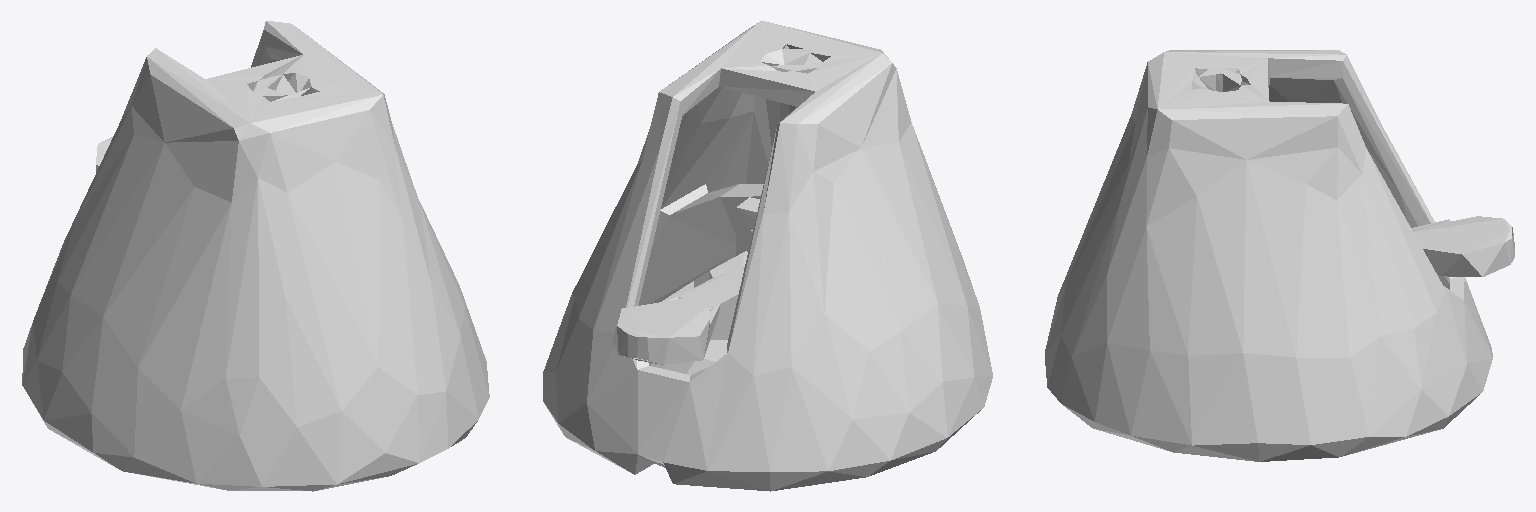
The robot description file, URDF, robot "Poppy_Torso":
<?xml version="1.0" encoding="utf-8"?>
<robot name="Poppy_Torso">
	<link name="base">
		<inertial>
			<origin xyz="-9.74926801495556E-06 0.0245809270022031 -0.0126310576435619" rpy="0 0 0"></origin>
			<mass value="0.304441048219244"></mass>
			<inertia ixx="0.000444379589701896" ixy="1.65486746667917E-08" ixz="-3.86276516415689E-09" iyy="0.00048561348802354" iyz="2.15649474149961E-05" izz="0.000421911604661064"></inertia>
		</inertial>
		<visual>
			<origin xyz="0 0 0" rpy="0 0 0"></origin>
			<geometry>
				<mesh filename="package://Poppy_Torso/meshes/base_visual.STL"></mesh>
			</geometry>
			<material name="">
				<color rgba="0.9 0.9 0.9 1.0"></color>
			</material>
		</visual>
		<collision>
			<origin xyz="0 0 0" rpy="0 0 0"></origin>
			<geometry>
				<mesh filename="package://Poppy_Torso/meshes/base_respondable.STL"></mesh>
			</geometry>
		</collision>
	</link>
	<link name="spine">
		<inertial>
			<origin xyz="-2.40404181622888E-07 0.0288451670610555 -0.0100975116173431" rpy="0 0 0"></origin>
			<mass value="0.0926815111299683"></mass>
			<inertia ixx="3.84763921301561E-05" ixy="-1.20593718688982E-09" ixz="-2.38686853561089E-10" iyy="2.73205150040803E-05" iyz="1.47490193478348E-06" izz="3.26595229928866E-05"></inertia>
		</inertial>
		<visual>
			<origin xyz="0 0 0" rpy="0 0 0"></origin>
			<geometry>
				<mesh filename="package://Poppy_Torso/meshes/spine_visual.STL"></mesh>
			</geometry>
			<material name="">
				<color rgba="0.9 0.9 0.9 1.0"></color>
			</material>
		</visual>
		<collision>
			<origin xyz="0 0 0" rpy="0 0 0"></origin>
			<geometry>
				<mesh filename="package://Poppy_Torso/meshes/spine_respondable.STL"></mesh>
			</geometry>
		</collision>
	</link>
	<link name="bust_motors">
		<inertial>
			<origin xyz="3.50872352602193E-05 0.0105220286991919 -0.0174331454397802" rpy="0 0 0"></origin>
			<mass value="0.158876054417129"></mass>
			<inertia ixx="0.000100953682916" ixy="-3.89105329887544E-07" ixz="9.71750445341545E-08" iyy="8.94288407127088E-05" iyz="-1.31738248300944E-06" izz="4.2622597249744E-05"></inertia>
		</inertial>
		<visual>
			<origin xyz="0 0 0" rpy="0 0 0"></origin>
			<geometry>
				<mesh filename="package://Poppy_Torso/meshes/bust_motors_visual.STL"></mesh>
			</geometry>
			<material name="">
				<color rgba="0.9 0.9 0.9 1.0"></color>
			</material>
		</visual>
		<collision>
			<origin xyz="0 0 0" rpy="0 0 0"></origin>
			<geometry>
				<mesh filename="package://Poppy_Torso/meshes/bust_motors_respondable.stl"></mesh>
			</geometry>
		</collision>
	</link>
	<link name="chest">
		<inertial>
			<origin xyz="2.16502093708977E-06 0.051494834637487 -0.0105461658967885" rpy="0 0 0"></origin>
			<mass value="0.262924546647766"></mass>
			<inertia ixx="0.000154596138060618" ixy="2.37341792243603E-08" ixz="-2.3634491566554E-08" iyy="0.000750952678880381" iyz="1.53507486626421E-06" izz="0.000688551029698055"></inertia>
		</inertial>
		<visual>
			<origin xyz="0 0 0" rpy="0 0 0"></origin>
			<geometry>
				<mesh filename="package://Poppy_Torso/meshes/chest_visual.STL"></mesh>
			</geometry>
			<material name="">
				<color rgba="0.9 0.9 0.9 1.0"></color>
			</material>
		</visual>
		<collision>
			<origin xyz="0 0 0" rpy="0 0 0"></origin>
			<geometry>
				<mesh filename="package://Poppy_Torso/meshes/chest_respondable.STL"></mesh>
			</geometry>
		</collision>
	</link>
	<link name="neck">
		<inertial>
			<origin xyz="-0.00147486363079189 0.00928455262636607 2.89600753380741E-06" rpy="0 0 0"></origin>
			<mass value="0.00588496516988366"></mass>
			<inertia ixx="7.25596636570398E-07" ixy="-9.29944216419528E-08" ixz="2.01438227026043E-10" iyy="2.33535976458608E-06" iyz="1.55383710790991E-11" izz="2.57395421284165E-06"></inertia>
		</inertial>
		<visual>
			<origin xyz="0 0 0" rpy="0 0 0"></origin>
			<geometry>
				<mesh filename="package://Poppy_Torso/meshes/neck_visual.STL"></mesh>
			</geometry>
			<material name="">
				<color rgba="0.9 0.9 0.9 1.0"></color>
			</material>
		</visual>
		<collision>
			<origin xyz="0 0 0" rpy="0 0 0"></origin>
			<geometry>
				<mesh filename="package://Poppy_Torso/meshes/neck_respondable.STL"></mesh>
			</geometry>
		</collision>
	</link>
	<link name="head">
		<inertial>
			<origin xyz="0.000557192931260033 0.0327428210753856 -0.0132526703496143" rpy="0 0 0"></origin>
			<mass value="0.188564677402165"></mass>
			<inertia ixx="0.000353349276053432" ixy="-2.18551305410159E-07" ixz="4.10859195006433E-06" iyy="0.000384594393505883" iyz="-2.16688817868271E-05" izz="0.000396655887789427"></inertia>
		</inertial>
		<visual>
			<origin xyz="0 0 0" rpy="0 0 0"></origin>
			<geometry>
				<mesh filename="package://Poppy_Torso/meshes/head_visual.STL"></mesh>
			</geometry>
			<material name="">
				<color rgba="0.9 0.9 0.9 1.0"></color>
			</material>
		</visual>
		<collision>
			<origin xyz="0 0 0" rpy="0 0 0"></origin>
			<geometry>
				<mesh filename="package://Poppy_Torso/meshes/head_respondable.stl"></mesh>
			</geometry>
		</collision>
	</link>
	<link name="r_shoulder">
		<inertial>
			<origin xyz="-0.0104831289118898 0.00172612373293796 -0.00916606535277945" rpy="0 0 0"></origin>
			<mass value="0.00848189595252892"></mass>
			<inertia ixx="3.40574053037303E-06" ixy="4.48539910128384E-08" ixz="-3.01050409281427E-08" iyy="3.57000945450025E-06" iyz="1.16024799669592E-08" izz="1.85571705062299E-06"></inertia>
		</inertial>
		<visual>
			<origin xyz="0 0 0" rpy="0 0 0"></origin>
			<geometry>
				<mesh filename="package://Poppy_Torso/meshes/r_shoulder_visual.STL"></mesh>
			</geometry>
			<material name="">
				<color rgba="0.9 0.9 0.9 1.0"></color>
			</material>
		</visual>
		<collision>
			<origin xyz="0 0 0" rpy="0 0 0"></origin>
			<geometry>
				<mesh filename="package://Poppy_Torso/meshes/r_shoulder_respondable.STL"></mesh>
			</geometry>
		</collision>
	</link>
	<link name="r_shoulder_motor">
		<inertial>
			<origin xyz="2.24524859149255E-07 -0.0125756770887728 -0.0085982551689308" rpy="0 0 0"></origin>
			<mass value="0.0828144642064673"></mass>
			<inertia ixx="2.76486436455355E-05" ixy="-1.31703554080169E-10" ixz="-6.69095857944708E-10" iyy="1.6442799920461E-05" iyz="7.2340141547735E-07" izz="2.26416495770308E-05"></inertia>
		</inertial>
		<visual>
			<origin xyz="0 0 0" rpy="0 0 0"></origin>
			<geometry>
				<mesh filename="package://Poppy_Torso/meshes/r_shoulder_motor_visual.STL"></mesh>
			</geometry>
			<material name="">
				<color rgba="0.9 0.9 0.9 1.0"></color>
			</material>
		</visual>
		<collision>
			<origin xyz="0 0 0" rpy="0 0 0"></origin>
			<geometry>
				<mesh filename="package://Poppy_Torso/meshes/r_shoulder_motor_respondable.STL"></mesh>
			</geometry>
		</collision>
	</link>
	<link name="r_upper_arm">
		<inertial>
			<origin xyz="-3.32548713521223E-05 0.0628256242258387 -0.0106376027333001" rpy="0 0 0"></origin>
			<mass value="0.16814085957724"></mass>
			<inertia ixx="0.000280827719414285" ixy="-6.03127767269455E-07" ixz="-3.86325402336742E-09" iyy="4.23293497956197E-05" iyz="3.11054354485249E-06" izz="0.00027591619563535"></inertia>
		</inertial>
		<visual>
			<origin xyz="0 0 0" rpy="0 0 0"></origin>
			<geometry>
				<mesh filename="package://meshes/r_upper_arm_visual.STL"></mesh>
			</geometry>
			<material name="">
				<color rgba="0.9 0.9 0.9 1.0"></color>
			</material>
		</visual>
		<collision>
			<origin xyz="0 0 0" rpy="0 0 0"></origin>
			<geometry>
				<mesh filename="package://meshes/r_upper_arm_respondable.STL"></mesh>
			</geometry>
		</collision>
	</link>
	<link name="r_forearm">
		<inertial>
			<origin xyz="-0.00691609004843832 -0.107157207279582 -0.00498971449145198" rpy="0 0 0"></origin>
			<mass value="0.0486519712384455"></mass>
			<inertia ixx="0.000185810284946174" ixy="7.32306439524687E-06" ixz="-9.09571193441087E-08" iyy="1.51060987356639E-05" iyz="-1.35871780134915E-05" izz="0.00018275371059442"></inertia>
		</inertial>
		<visual>
			<origin xyz="0 0 0" rpy="0 0 0"></origin>
			<geometry>
				<mesh filename="package://Poppy_Torso/meshes/r_forearm_visual.STL"></mesh>
			</geometry>
			<material name="">
				<color rgba="0.9 0.9 0.9 1.0"></color>
			</material>
		</visual>
		<collision>
			<origin xyz="0 0 0" rpy="0 0 0"></origin>
			<geometry>
				<mesh filename="package://Poppy_Torso/meshes/r_forearm_respondable.STL"></mesh>
			</geometry>
		</collision>
	</link>
	<link name="l_shoulder">
		<inertial>
			<origin xyz="0.0105107550364721 0.00179804682433171 -0.00915203083390112" rpy="0 0 0"></origin>
			<mass value="0.00843598833388653"></mass>
			<inertia ixx="3.39606842476909E-06" ixy="-4.79548412692014E-08" ixz="2.95433304950035E-08" iyy="3.56726040974559E-06" iyz="1.00379140238948E-08" izz="1.84634802704217E-06"></inertia>
		</inertial>
		<visual>
			<origin xyz="0 0 0" rpy="0 0 0"></origin>
			<geometry>
				<mesh filename="package://Poppy_Torso/meshes/l_shoulder_visual.STL"></mesh>
			</geometry>
			<material name="">
				<color rgba="0.9 0.9 0.9 1.0"></color>
			</material>
		</visual>
		<collision>
			<origin xyz="0 0 0" rpy="0 0 0"></origin>
			<geometry>
				<mesh filename="package://Poppy_Torso/meshes/l_shoulder_respondable.stl"></mesh>
			</geometry>
		</collision>
	</link>
	<link name="l_shoulder_motor">
		<inertial>
			<origin xyz="2.25557890282113E-07 -0.0125756747635647 -0.00859825840421122" rpy="0 0 0"></origin>
			<mass value="0.082814411658021"></mass>
			<inertia ixx="2.7648623312469E-05" ixy="-1.32234083145181E-10" ixz="-6.69084913308621E-10" iyy="1.64427861876741E-05" iyz="7.23399382479451E-07" izz="2.26416366114375E-05"></inertia>
		</inertial>
		<visual>
			<origin xyz="0 0 0" rpy="0 0 0"></origin>
			<geometry>
				<mesh filename="package://Poppy_Torso/meshes/l_shoulder_motor_visual.STL"></mesh>
			</geometry>
			<material name="">
				<color rgba="0.9 0.9 0.9 1.0"></color>
			</material>
		</visual>
		<collision>
			<origin xyz="0 0 0" rpy="0 0 0"></origin>
			<geometry>
				<mesh filename="package://Poppy_Torso/meshes/l_shoulder_motor_respondable.stl"></mesh>
			</geometry>
		</collision>
	</link>
	<link name="l_upper_arm">
		<inertial>
			<origin xyz="3.30518731642866E-05 0.0628256242231928 -0.0106376043749558" rpy="0 0 0"></origin>
			<mass value="0.168140859572398"></mass>
			<inertia ixx="0.000280827719319256" ixy="6.03218629893559E-07" ixz="3.24530722833658E-09" iyy="4.23293519917111E-05" iyz="3.11052764904881E-06" izz="0.000275916197869213"></inertia>
		</inertial>
		<visual>
			<origin xyz="0 0 0" rpy="0 0 0"></origin>
			<geometry>
				<mesh filename="package://meshes/l_upper_arm_visual.STL"></mesh>
			</geometry>
			<material name="">
				<color rgba="0.9 0.9 0.9 1.0"></color>
			</material>
		</visual>
		<collision>
			<origin xyz="0 0 0" rpy="0 0 0"></origin>
			<geometry>
				<mesh filename="package://meshes/l_upper_arm_respondable.STL"></mesh>
			</geometry>
		</collision>
	</link>
	<link name="l_forearm">
		<inertial>
			<origin xyz="0.00691508667512003 -0.107157301013597 -0.00499027850392402" rpy="0 0 0"></origin>
			<mass value="0.0486517775557926"></mass>
			<inertia ixx="0.000185803987345629" ixy="-7.31676533662061E-06" ixz="8.9803476607652E-08" iyy="1.51052658275603E-05" iyz="-1.35881066977447E-05" izz="0.000182746088047765"></inertia>
		</inertial>
		<visual>
			<origin xyz="0 0 0" rpy="0 0 0"></origin>
			<geometry>
				<mesh filename="package://Poppy_Torso/meshes/l_forearm_visual.STL"></mesh>
			</geometry>
			<material name="">
				<color rgba="0.9 0.9 0.9 1.0"></color>
			</material>
		</visual>
		<collision>
			<origin xyz="0 0 0" rpy="0 0 0"></origin>
			<geometry>
				<mesh filename="package://Poppy_Torso/meshes/l_forearm_respondable.stl"></mesh>
			</geometry>
		</collision>
	</link>
	<joint name="abs_z" type="revolute">
		<origin xyz="0 0 0.08965" rpy="1.5708 1.1258E-18 0.018388"></origin>
		<parent link="base"></parent>
		<child link="spine"></child>
		<axis xyz="0 1 0"></axis>
		<limit lower="-1.3962634016" upper="1.3962634016" effort="3.1" velocity="7.0"></limit>
	</joint>
	<joint name="bust_y" type="revolute">
		<origin xyz="0 0.07985 0.00279999999999998" rpy="0 0 0"></origin>
		<parent link="spine"></parent>
		<child link="bust_motors"></child>
		<axis xyz="-1 0 0"></axis>
		<limit effort="3.1" lower="-0.802851455917" upper="0.401425727959" velocity="7.0"></limit>
	</joint>
	<joint name="bust_x" type="revolute">
		<origin xyz="0 0 0" rpy="0 0 0"></origin>
		<parent link="bust_motors"></parent>
		<child link="chest"></child>
		<axis xyz="0 0 1"></axis>
		<limit effort="3.1" lower="-0.698131700798" upper="0.698131700798" velocity="7.0"></limit>
	</joint>
	<joint name="head_z" type="revolute">
		<origin xyz="0 0.084 0.00499999999999996" rpy="0 0 0"></origin>
		<parent link="chest"></parent>
		<child link="neck"></child>
		<axis xyz="0 1 0"></axis>
		<limit effort="1.8" lower="-1.74532925199" upper="1.74532925199" velocity="10.0"></limit>
	</joint>
	<joint name="head_y" type="revolute">
		<origin xyz="0 0.0199999999999999 0" rpy="-0.349065850398866 0 0"></origin>
		<parent link="neck"></parent>
		<child link="head"></child>
		<axis xyz="-1 0 0"></axis>
		<limit effort="1.8" lower="-0.698131700798" upper="0.13962634016" velocity="10.0"></limit>
	</joint>
	<joint name="l_shoulder_y" type="revolute">
		<origin xyz="0.0771000000000001 0.0499999999999999 0.00399999999999997" rpy="-1.5707963267949 0 0"></origin>
		<parent link="chest"></parent>
		<child link="l_shoulder"></child>
		<axis xyz="1 0 0"></axis>
		<limit effort="3.1" lower="-2.09439510239" upper="2.70526034059" velocity="7.0"></limit>
	</joint>
	<joint name="l_shoulder_x" type="revolute">
		<origin xyz="0.0284 0 0" rpy="3.14159265358979 0 1.5707963267949"></origin>
		<parent link="l_shoulder"></parent>
		<child link="l_shoulder_motor"></child>
		<axis xyz="0 0 1"></axis>
		<limit effort="3.1" lower="-1.83259571459" upper="1.91986217719" velocity="7.0"></limit>
	</joint>
	<joint name="l_arm_z" type="revolute">
		<origin xyz="0 0.03625 0.0185000000000001" rpy="0 0 0"></origin>
		<parent link="l_shoulder_motor"></parent>
		<child link="l_upper_arm"></child>
		<axis xyz="0 1 0"></axis>
		<limit effort="3.1" lower="-1.57079632679" upper="1.57079632679" velocity="7.0"></limit>
	</joint>
	<joint name="l_elbow_y" type="revolute">
		<origin xyz="0 0.11175 -0.00999999999999998" rpy="0 0 0"></origin>
		<parent link="l_upper_arm"></parent>
		<child link="l_forearm"></child>
		<axis xyz="1 0 0"></axis>
		<limit effort="3.1" lower="-2.44346095279" upper="0.0" velocity="7.0"></limit>
	</joint>
	<joint name="r_shoulder_y" type="revolute">
		<origin xyz="-0.0770999999999999 0.0500000000000002 0.00400000000000003" rpy="-1.5707963267949 0 0"></origin>
		<parent link="chest"></parent>
		<child link="r_shoulder"></child>
		<axis xyz="-1 0 0"></axis>
		<limit effort="3.1" lower="-2.70526034059" upper="2.09439510239" velocity="7.0"></limit>
	</joint>
	<joint name="r_shoulder_x" type="revolute">
		<origin xyz="-0.0284 0 0" rpy="3.14159265358979 0 -1.5707963267949"></origin>
		<parent link="r_shoulder"></parent>
		<child link="r_shoulder_motor"></child>
		<axis xyz="0 0 -1"></axis>
		<limit effort="3.1" lower="-1.91986217719" upper="1.83259571459" velocity="7.0"></limit>
	</joint>
	<joint name="r_arm_z" type="revolute">
		<origin xyz="0 0.03625 0.0185000000000002" rpy="0 0 0"></origin>
		<parent link="r_shoulder_motor"></parent>
		<child link="r_upper_arm"></child>
		<axis xyz="0 1 0"></axis>
		<limit effort="3.1" lower="-1.57079632679" upper="1.57079632679" velocity="7.0"></limit>
	</joint>
	<joint name="r_elbow_y" type="revolute">
		<origin xyz="0 0.11175 -0.01" rpy="0 0 0"></origin>
		<parent link="r_upper_arm"></parent>
		<child link="r_forearm"></child>
		<axis xyz="-1 0 0"></axis>
		<limit effort="3.1" lower="0.0" upper="2.56563400043" velocity="7.0"></limit>
	</joint>
</robot>

--- What the picture shows (computed from the rendered views, not written in the file) ---
Views: 3 orthographic renders of the robot side by side, from view 1: azimuth 30°, elevation 25°; view 2: azimuth 150°, elevation 25°; view 3: azimuth 270°, elevation 25°.
Model Poppy_Torso with 14 links and 13 joints (13 revolute), rooted at base, posed every joint at zero.
Links seen in each view (by area): view 1: base; view 2: base; view 3: base.
Boxes of the visible links, x1,y1,x2,y2 form: base: (22, 21, 489, 491); base: (543, 21, 992, 491); base: (1045, 50, 1514, 461).
Size in the robot's own frame: 0.1198 by 0.1356 by 0.0971 metres.
1 mesh visuals loaded from 14 distinct referenced files (1 binary STL); not drawn: 6 (reference not matched to a file when rendering), 7 (file found but could not be loaded).